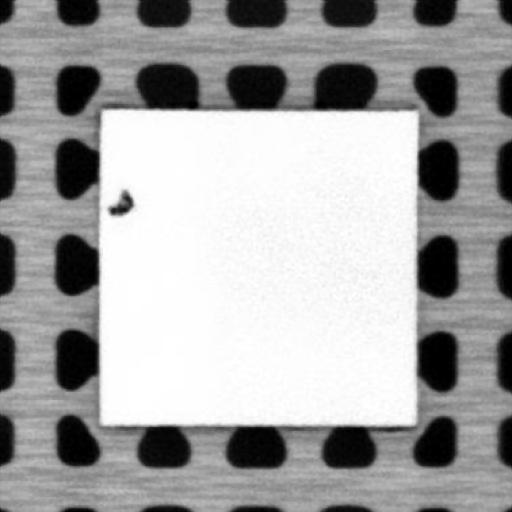DIE_INK: (106, 187, 132, 216)
